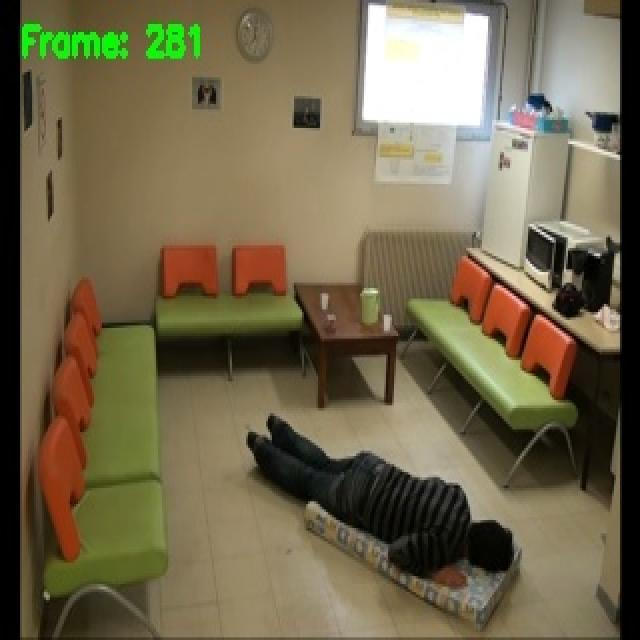fall: (239, 411, 519, 603)
